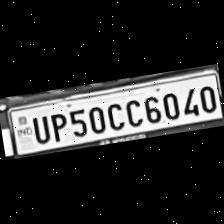0: (156, 88, 181, 122), (195, 82, 219, 114), (84, 102, 107, 135)
4: (176, 84, 200, 118)
5: (64, 104, 90, 139)
6: (140, 92, 162, 125)
C: (103, 100, 125, 132), (122, 96, 142, 128)
P: (46, 108, 69, 142)
U: (26, 112, 51, 146)
